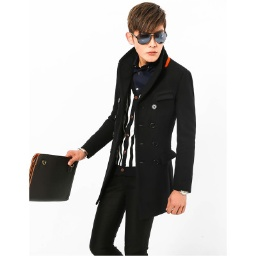face: (125, 1, 167, 64)
